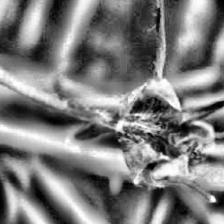Gray Mold: (69, 48, 224, 203)
